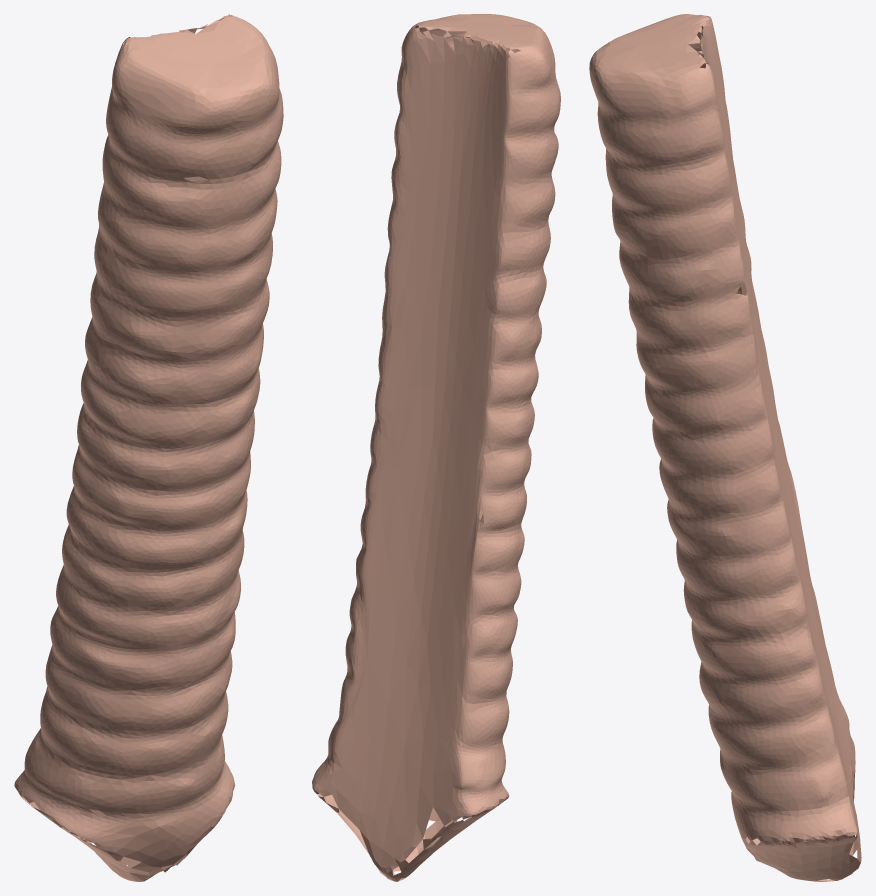
File: trachea.glb
3 renders of one model, left to right at view 1: azimuth 30°, elevation 25°; view 2: azimuth 150°, elevation 25°; view 3: azimuth 270°, elevation 25°, orthographic. The views are drawn at different scales.
Parts seen in each view (by area): view 1: trachea; view 2: trachea; view 3: trachea.
Boxes of the visible parts, box(x1,y1,x2,y2) form: trachea: box(14, 14, 283, 881); trachea: box(312, 14, 560, 881); trachea: box(589, 14, 861, 881).
Bounding box in the file's own units: 25.34 × 110 × 32.24.
